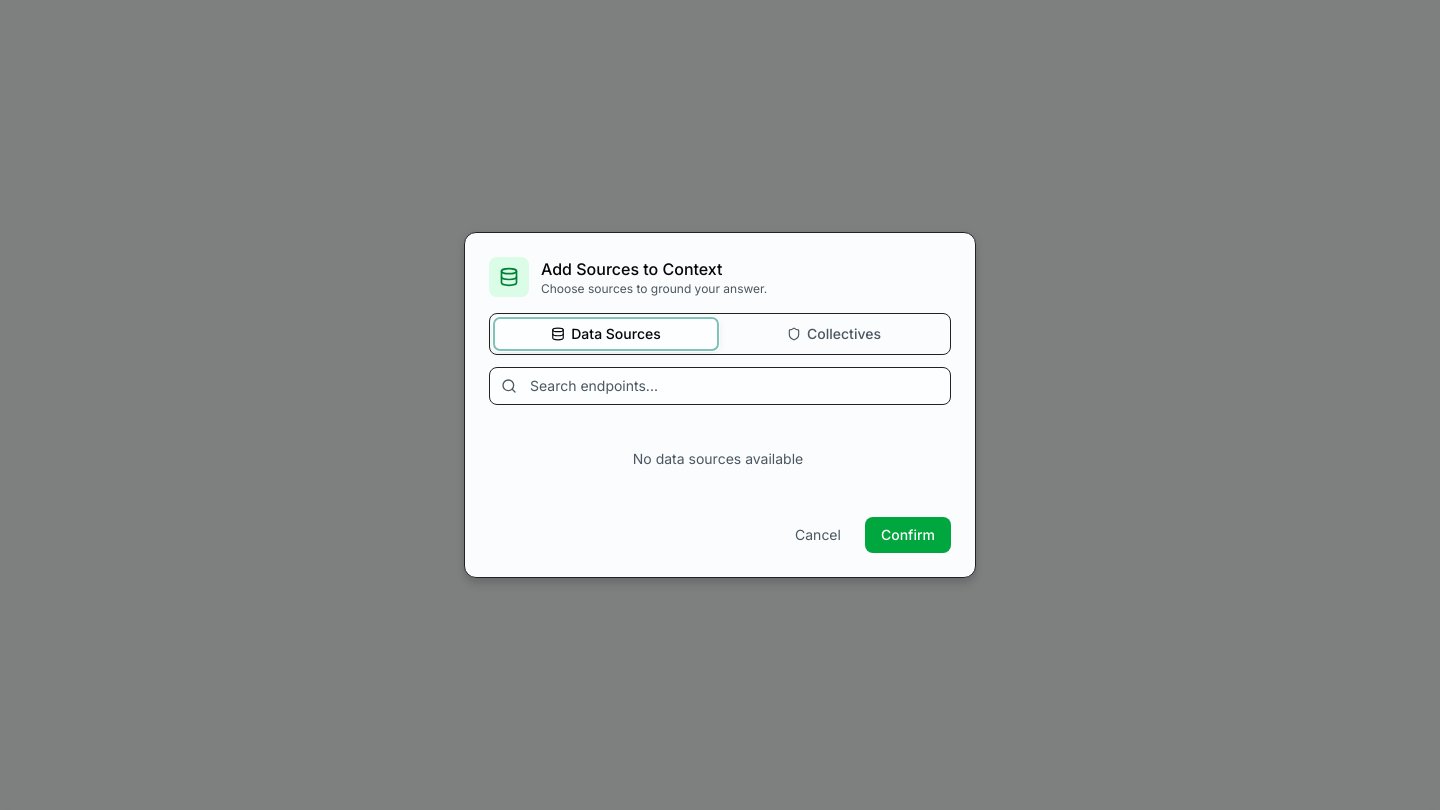
AddSourcesModal › collectives tab filtering › shows both collectives before any filter is applied
Click the button "Collectives" at (834, 334), box 722,318 -> 946,350
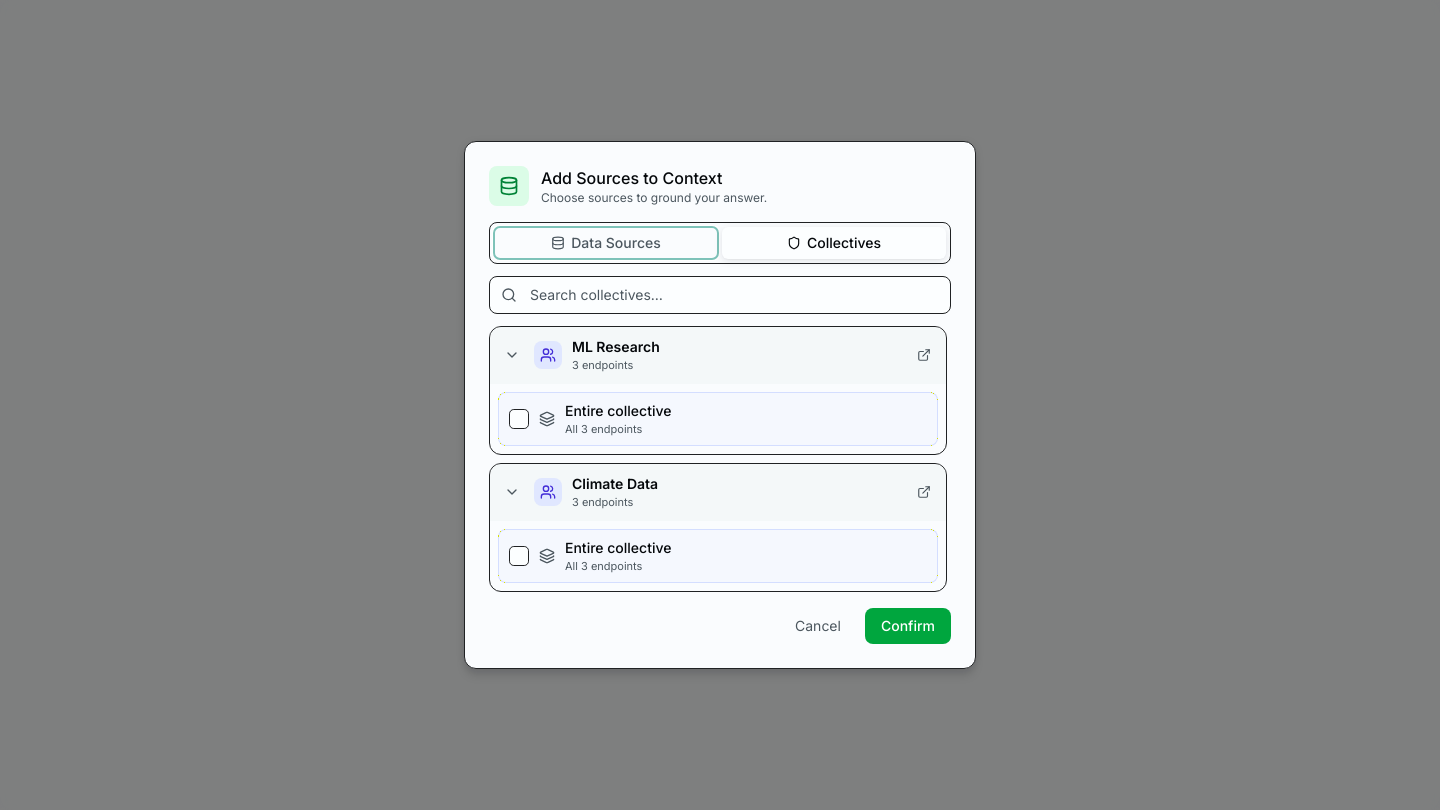
Expected: the text "ML Research" is shown, 572,338 -> 660,355
Expected: the text "Climate Data" is shown, 572,475 -> 658,492
